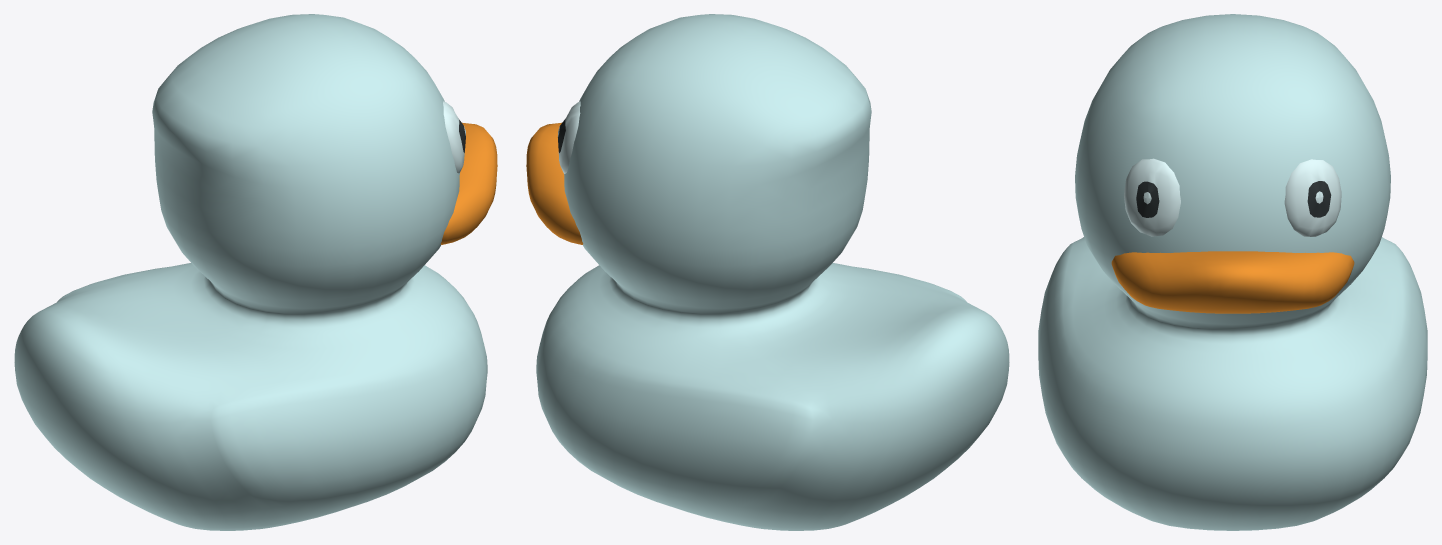
Rendered from Rubber Ducky White.fbx.
The picture shows the model from 3 angles, left to right: view 1: azimuth 30°, elevation 25°; view 2: azimuth 150°, elevation 25°; view 3: azimuth 270°, elevation 25°; orthographic projection. The views are drawn at different scales.
Parts seen in each view (by area): view 1: Rubber_Duck; view 2: Rubber_Duck; view 3: Rubber_Duck.
Boxes of the visible parts, x1,y1,x2,y2 form: Rubber_Duck: [14, 14, 497, 530]; Rubber_Duck: [526, 14, 1009, 530]; Rubber_Duck: [1038, 14, 1427, 530].
Bounding box in the file's own units: 8.53 × 8.27 × 6.1.
Materials: 1 (1 with a texture image).
